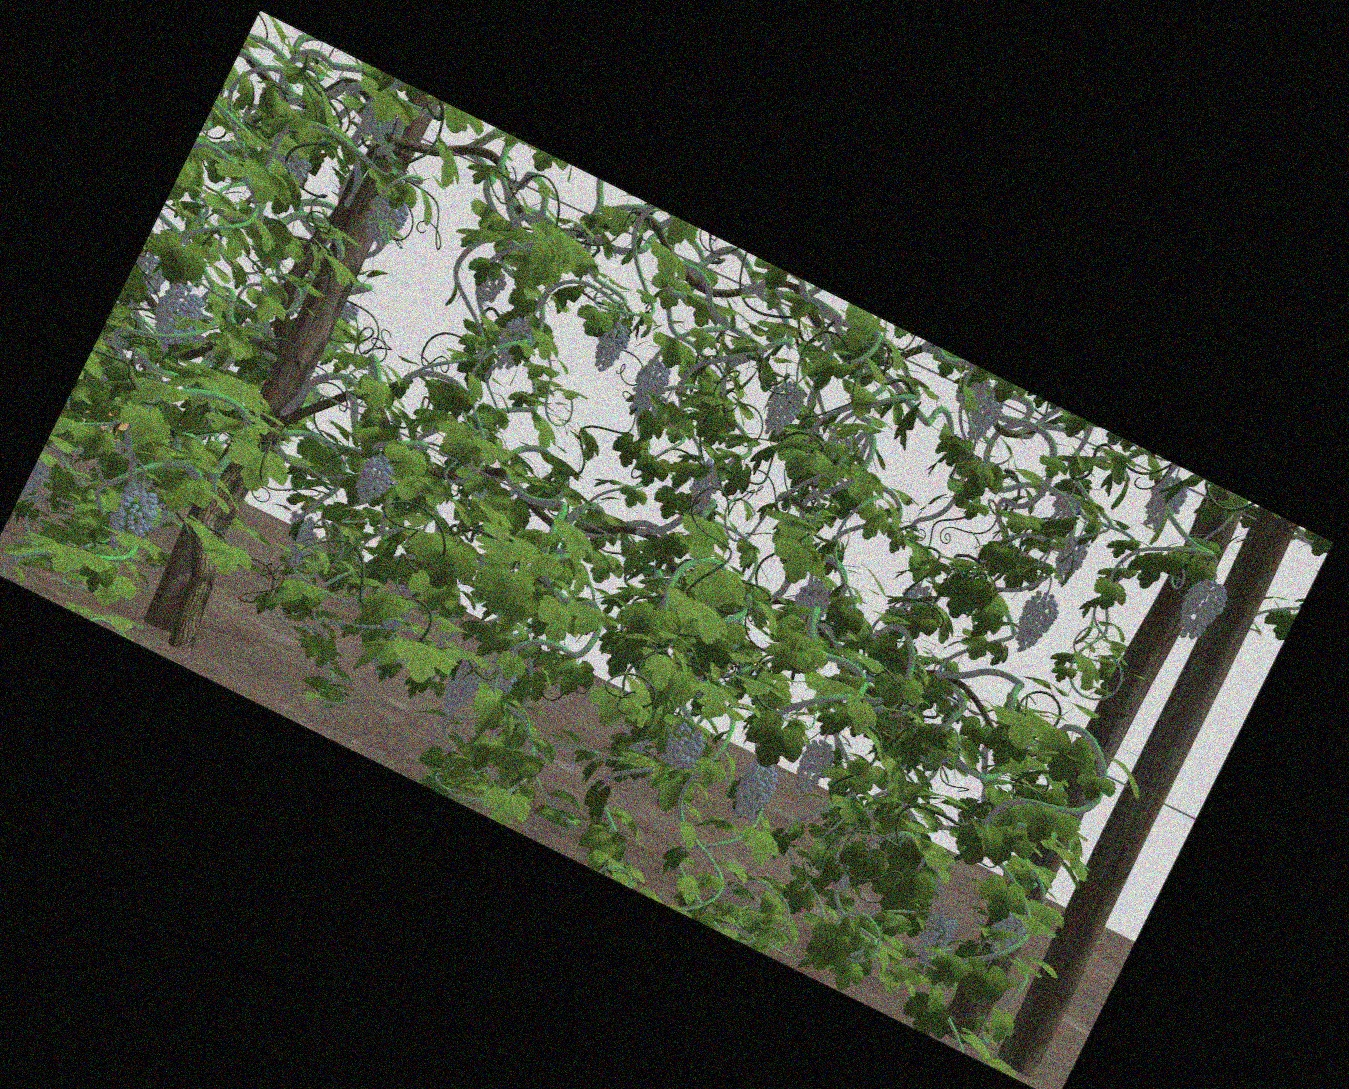grape: (157, 288, 197, 349), (1181, 580, 1221, 641), (112, 486, 156, 538), (1018, 591, 1052, 655), (766, 383, 803, 438), (737, 763, 772, 821), (444, 656, 477, 715), (632, 360, 666, 414), (796, 740, 829, 795), (364, 197, 402, 244), (1149, 478, 1181, 532), (596, 317, 626, 372), (667, 728, 702, 772), (920, 912, 950, 962), (358, 458, 391, 502), (499, 319, 527, 372), (972, 393, 998, 441), (1056, 541, 1083, 582), (955, 374, 988, 407), (797, 583, 829, 615), (992, 919, 1020, 955), (479, 269, 503, 303)
